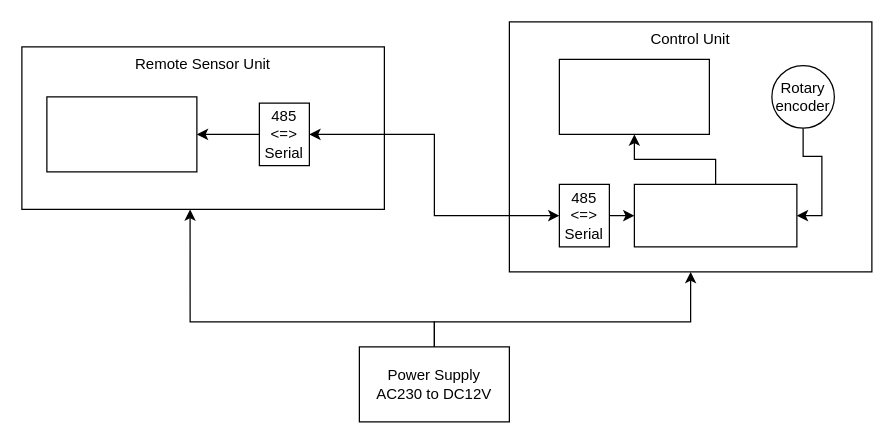
Image size: 894x444. Some labels were removed from this diagram. The centre of each missing label's shape, as x and y in pixels:
"LCD" goes at (633,96).
"Raspberry Pico" goes at (715,215).
"Ultrasonic sensor JSN-SR04T" goes at (121,134).
